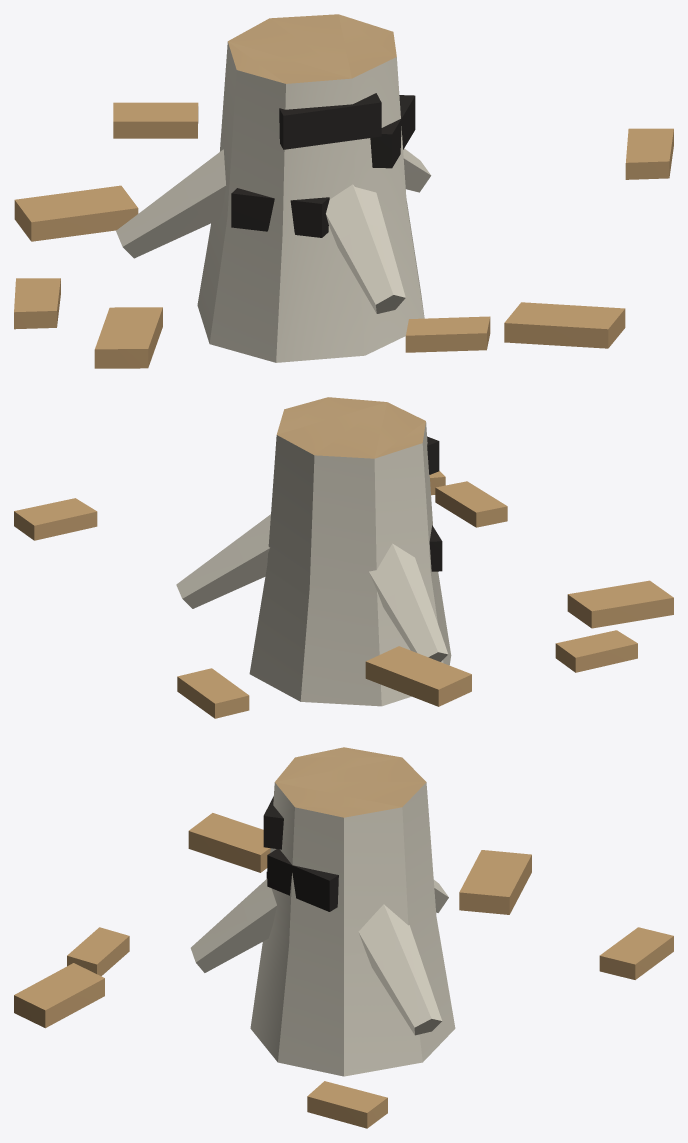
File: SM_Tree_Birch_Small01_Stump.fbx
3 views of the same model, one above another, from view 1: azimuth 30°, elevation 25°; view 2: azimuth 150°, elevation 25°; view 3: azimuth 270°, elevation 25° (orthographic). The views are drawn at different scales.
Parts seen in each view (by area): view 1: SM_Tree_Birch_Small01_Stump; view 2: SM_Tree_Birch_Small01_Stump; view 3: SM_Tree_Birch_Small01_Stump.
Part boxes in pixels (bbox=[...]): SM_Tree_Birch_Small01_Stump: bbox=[14, 14, 673, 368]; SM_Tree_Birch_Small01_Stump: bbox=[14, 397, 673, 718]; SM_Tree_Birch_Small01_Stump: bbox=[14, 747, 673, 1128].
Size of the model in its own units: 2.94 by 1.1 by 2.67.
1 material, 1 textured.
